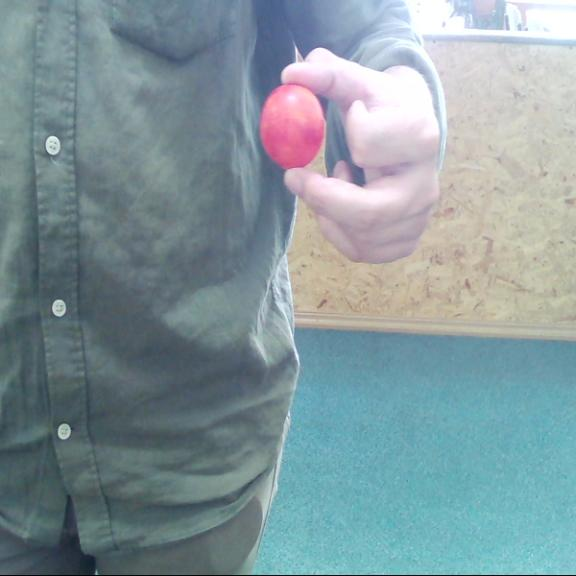ball: (259, 85, 331, 168)
